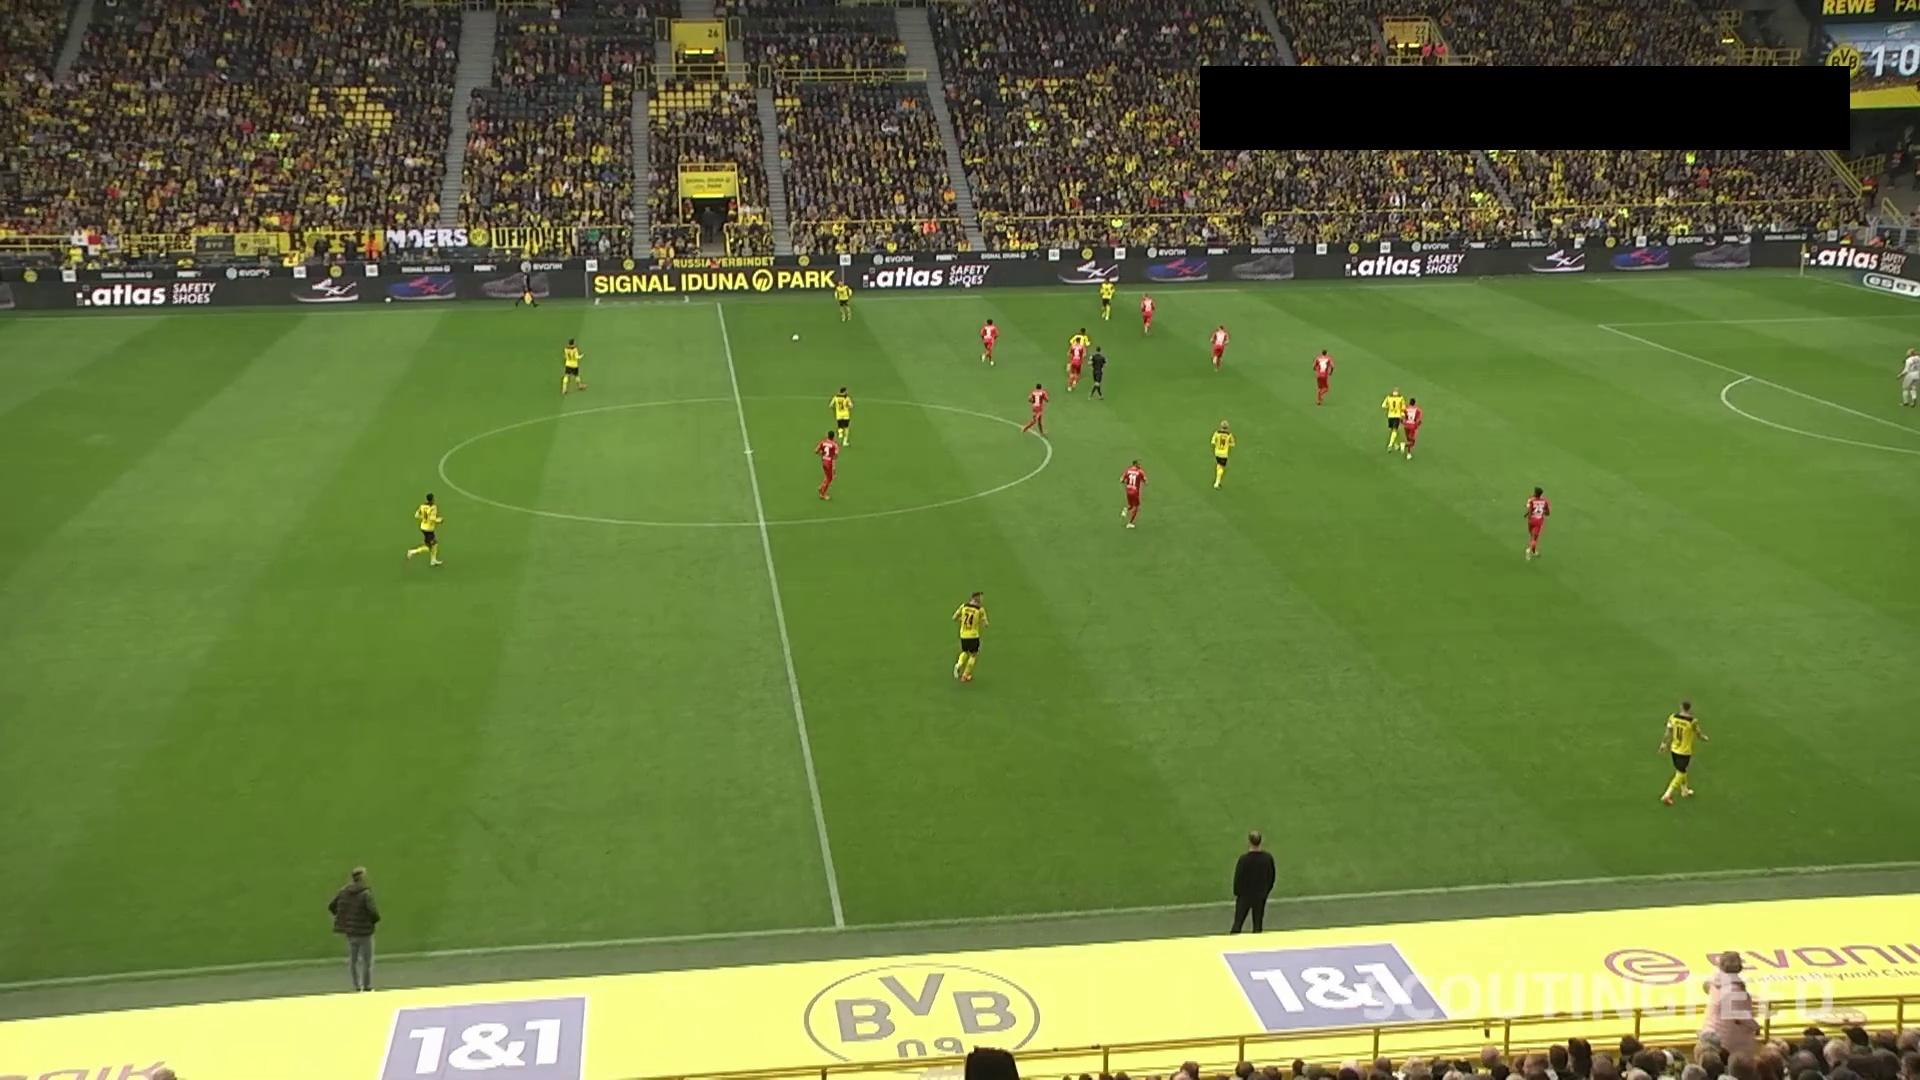Location-of-ball: (786, 322, 808, 353)
